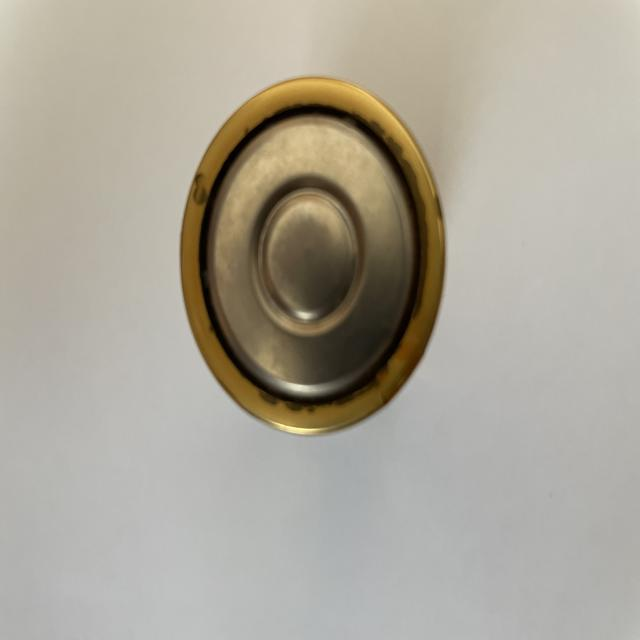hazardous waste: (178, 70, 448, 440)
